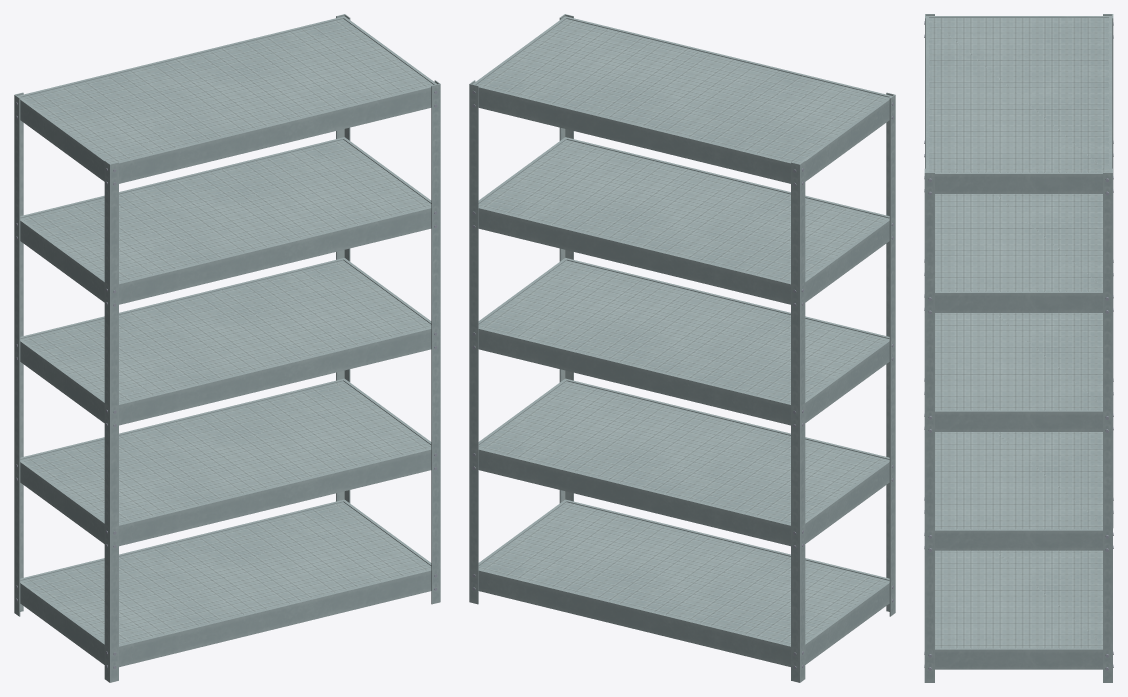
Rendered from Rack.FBX.
3 views of the same model, side by side, from view 1: azimuth 30°, elevation 25°; view 2: azimuth 150°, elevation 25°; view 3: azimuth 270°, elevation 25° (orthographic).
Parts seen in each view (by area): view 1: Rack_LOD0; view 2: Rack_LOD0; view 3: Rack_LOD0.
Part boxes in pixels (x1,y1,x2,y2): Rack_LOD0: [14, 14, 440, 682]; Rack_LOD0: [469, 14, 895, 682]; Rack_LOD0: [924, 14, 1113, 682].
Size of what is drawn, in the model's own units: 123 by 183 by 61.52.
